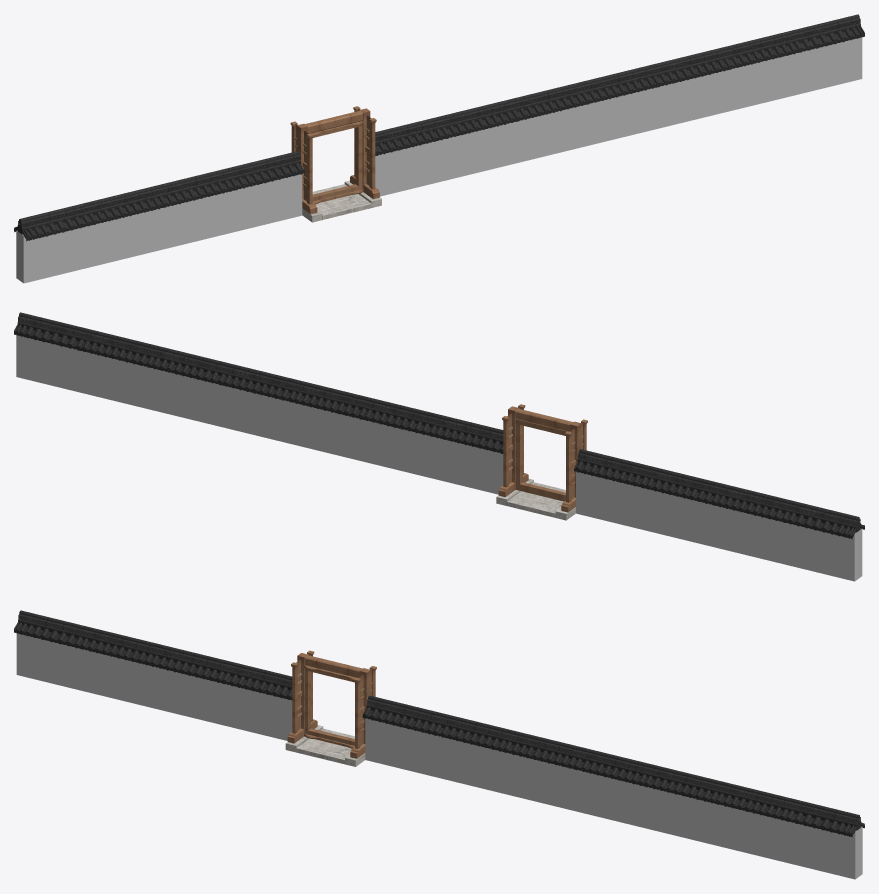
Rendered from SM_JSH_HG_StoneWallH_Splines_3.fbx.
3 views of the same model, one above another, from view 1: azimuth 30°, elevation 25°; view 2: azimuth 150°, elevation 25°; view 3: azimuth 330°, elevation 25° (orthographic).
Parts seen in each view (by area): view 1: SM_JSH_HG_StoneWallH_Splines_3; view 2: SM_JSH_HG_StoneWallH_Splines_3; view 3: SM_JSH_HG_StoneWallH_Splines_3.
Part boxes in pixels (<box>): SM_JSH_HG_StoneWallH_Splines_3: <box>14,14,864,283</box>; SM_JSH_HG_StoneWallH_Splines_3: <box>14,312,864,581</box>; SM_JSH_HG_StoneWallH_Splines_3: <box>14,610,864,879</box>.
Bounding box in the file's own units: 2533 × 141 × 248.
